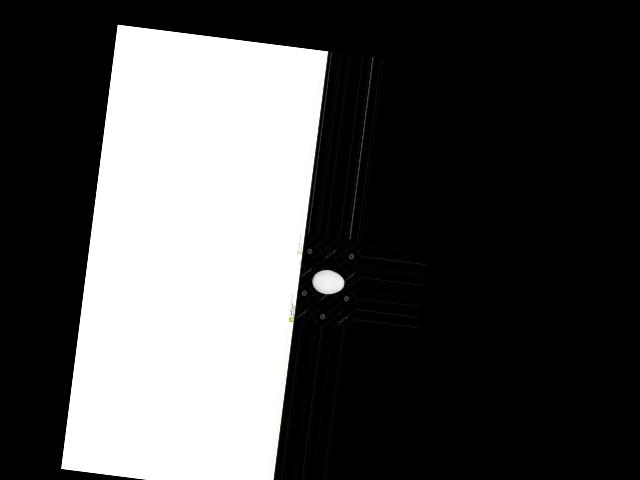egg: (310, 267, 345, 295)
